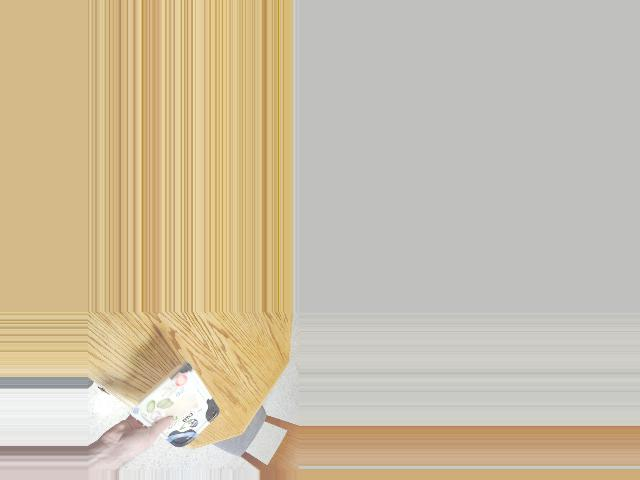cheese: (137, 375, 217, 436)
